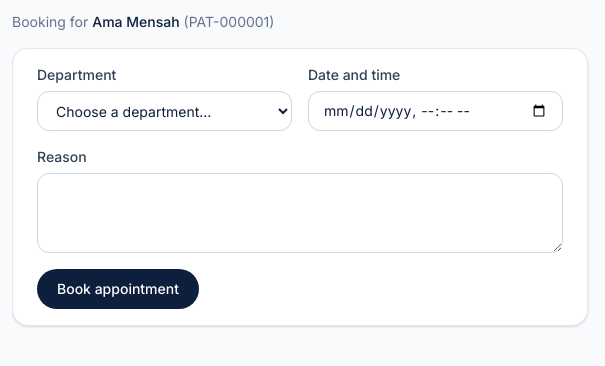
Scenario: AppointmentBook › requires a department before booking
The width and height of the screenshot is (605, 366).
Click the button "Book appointment".
click(118, 289)  # box [37,269,199,309]
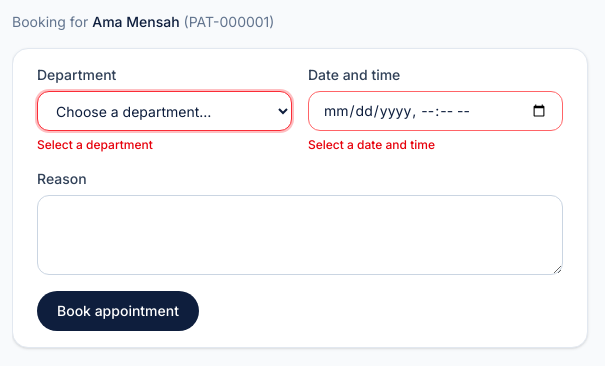
expect the text "Select a department" is shown: met, box [37,137,153,152]
